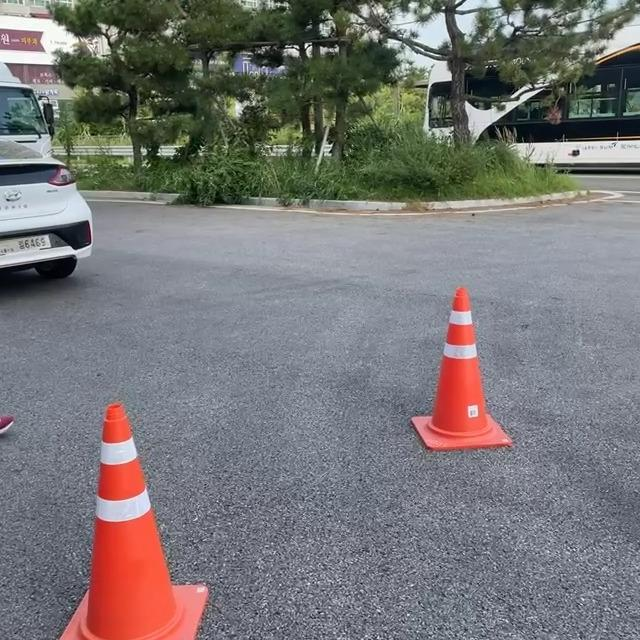fallen_object: (19, 366, 257, 640), (386, 276, 563, 465)
